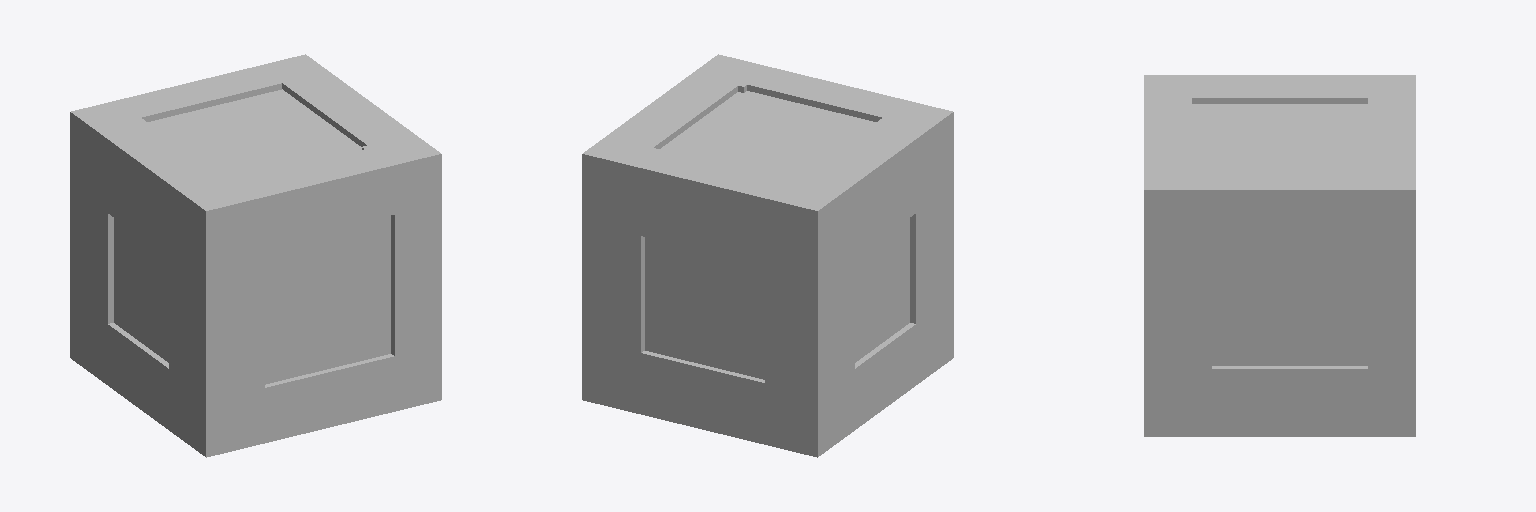
File: Dice.obj
The picture shows the model from 3 angles: view 1: azimuth 30°, elevation 25°; view 2: azimuth 150°, elevation 25°; view 3: azimuth 270°, elevation 25°; orthographic projection.
Parts seen in each view (by area): view 1: object 1; view 2: object 1; view 3: object 1.
Part boxes in pixels (left/top/right/bottom): object 1: left=70, top=54, right=441, bottom=457; object 1: left=582, top=54, right=953, bottom=457; object 1: left=1144, top=75, right=1415, bottom=436.
Bounding box in the file's own units: 4 × 4 × 4.